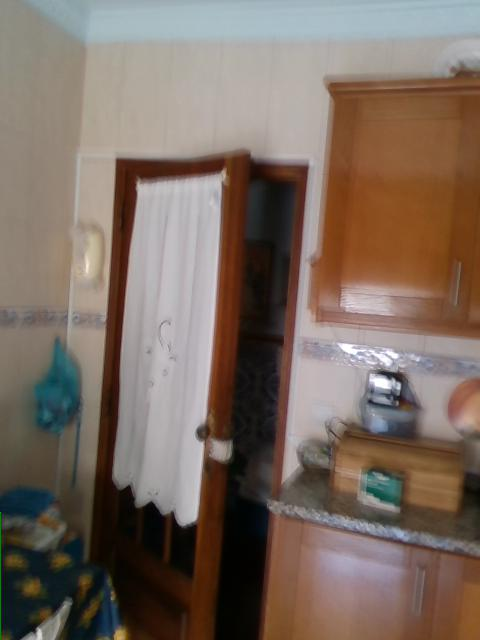semi_door: (90, 147, 309, 639)
